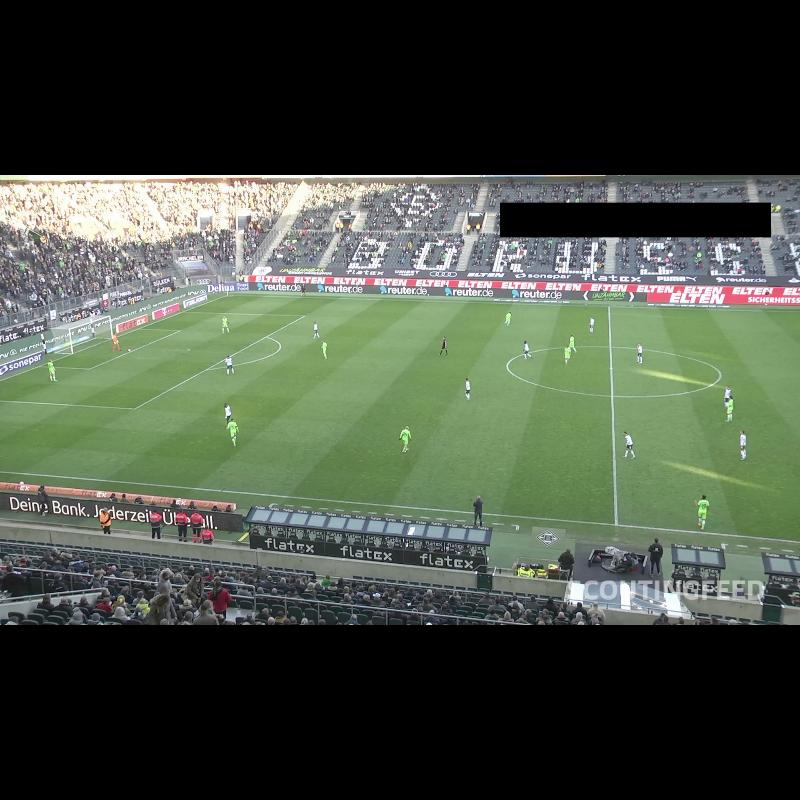cross_recipient_zone: (0, 312, 305, 409)
crossing_player_zone: (0, 402, 237, 484), (184, 295, 402, 318)
pitch: (0, 294, 800, 542)
